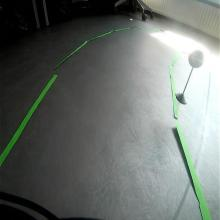left: (188, 48, 205, 69)
